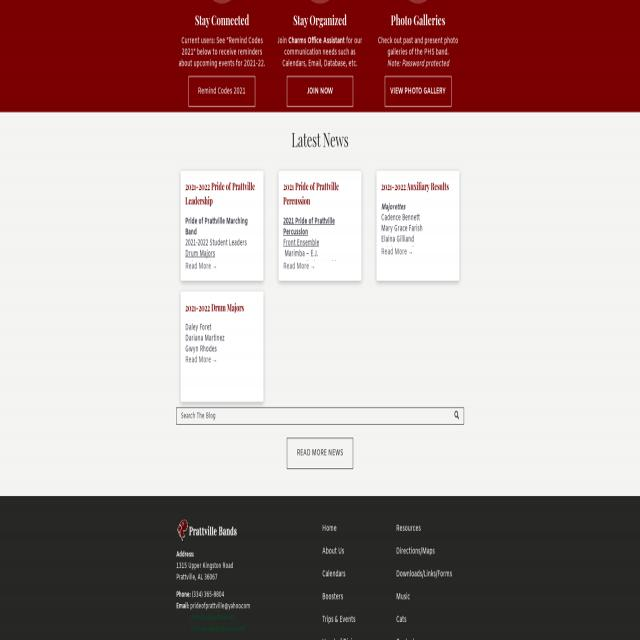button: (189, 76, 255, 108), (287, 76, 353, 108), (385, 76, 451, 108), (287, 438, 353, 468), (176, 517, 238, 543)
field: (176, 408, 464, 424)
